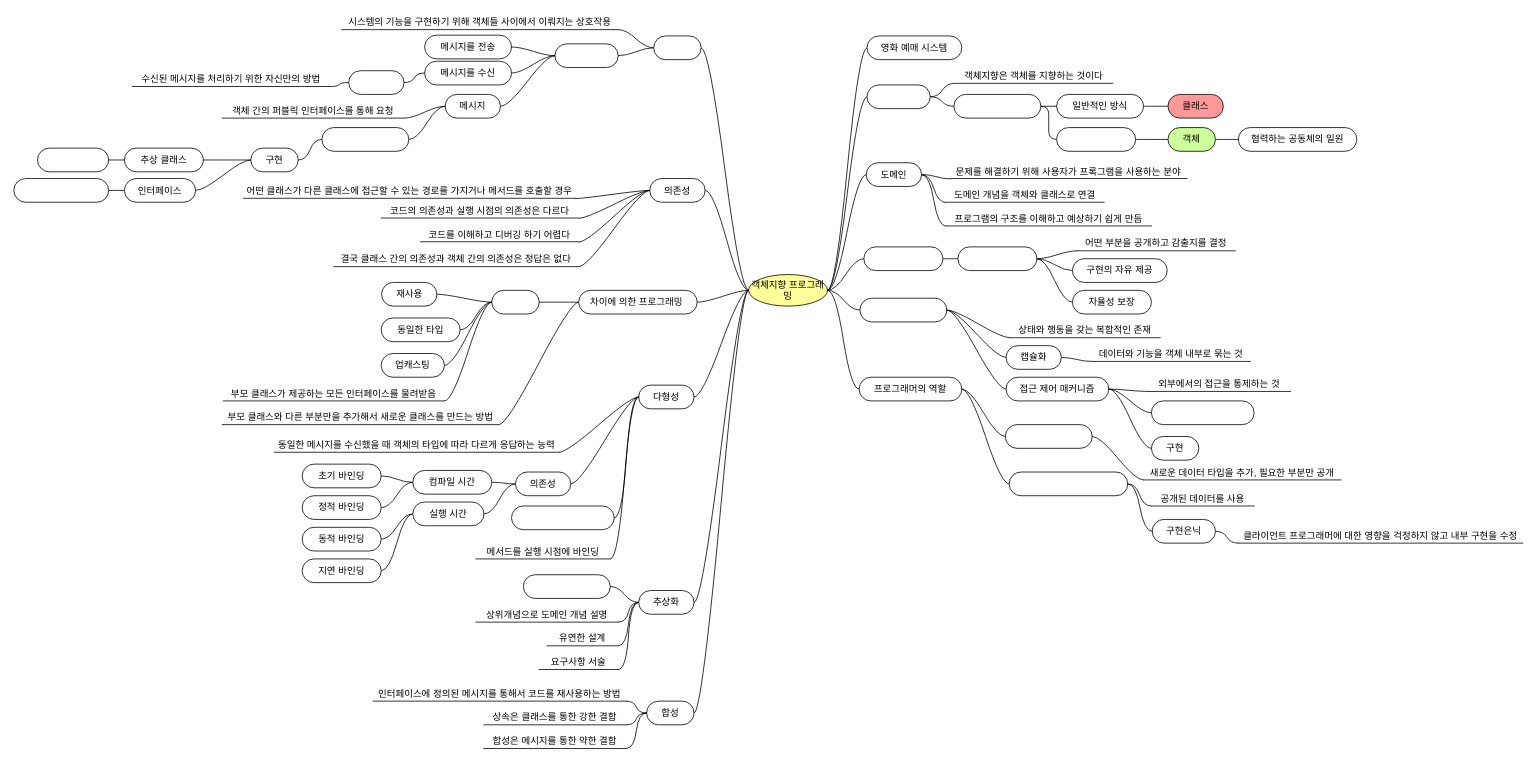
Image size: 1537x762. Some labels were removed from this diagram. Each missing label, with the box of its shape:
객체지향: (866, 84, 930, 109)
경계의 구분: (957, 246, 1037, 271)
구현 공유: (37, 147, 109, 172)
다형성의 개념: (321, 127, 409, 151)
메서드: (348, 70, 404, 94)
상속: (491, 290, 539, 314)
상호작용: (554, 43, 618, 68)
설계 접근 방식: (953, 94, 1041, 118)
인터페이스 공유: (13, 178, 109, 202)
인터페이스가 동일: (511, 505, 614, 530)
자율적인 객체: (859, 297, 947, 322)
진정한 방식: (1056, 127, 1136, 151)
클라이언트 프로그래머: (1008, 471, 1128, 496)
클래스 구현: (863, 246, 943, 271)
클래스 작성자: (1004, 424, 1092, 448)
트레이드 오프: (523, 574, 610, 598)
퍼블릭 인터페이스: (1151, 400, 1254, 425)
협력: (653, 35, 701, 60)
